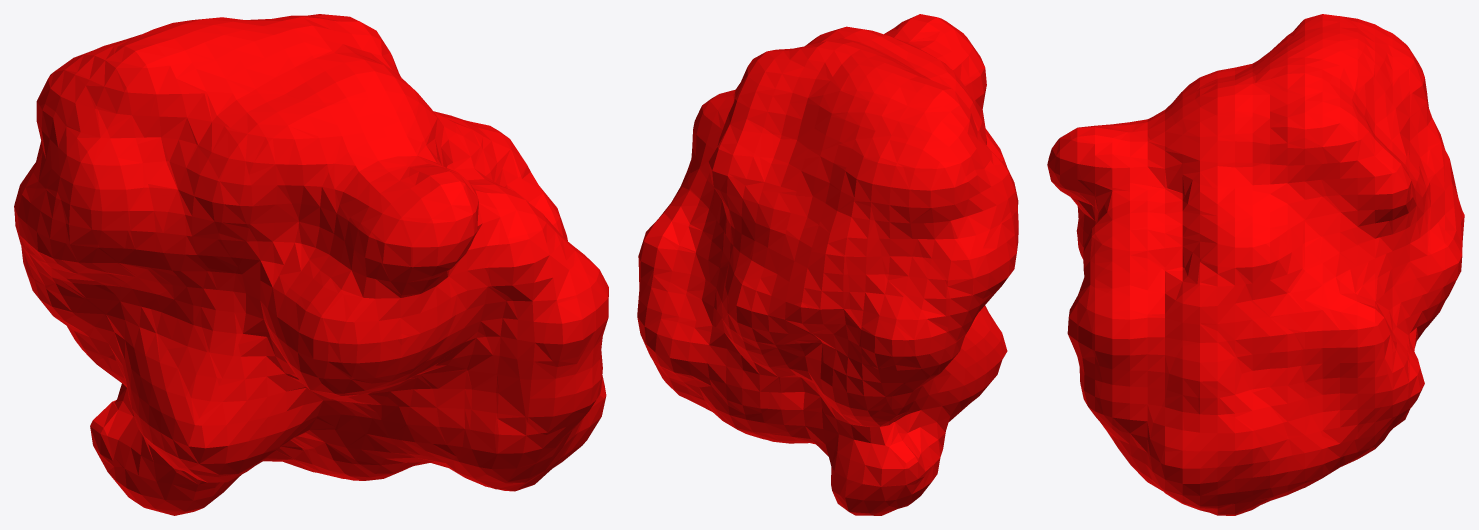
The model's file is mdaB_coarse.dae.
3 renders of one model, left to right at view 1: azimuth 30°, elevation 25°; view 2: azimuth 150°, elevation 25°; view 3: azimuth 270°, elevation 25°, orthographic. The views are drawn at different scales.
Parts seen in each view (by area): view 1: mdaB; view 2: mdaB; view 3: mdaB.
Part boxes in pixels (left/top/right/bottom): mdaB: left=14, top=14, right=608, bottom=515; mdaB: left=637, top=14, right=1018, bottom=515; mdaB: left=1047, top=14, right=1464, bottom=515.
Size of the model in its own units: 59.46 by 58.72 by 55.41.
